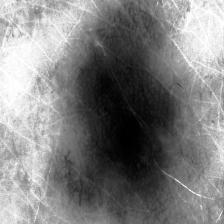Benign Marking or Mole: (51, 0, 172, 213)
